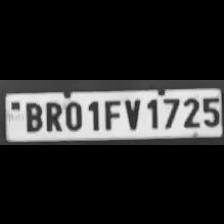0: (62, 99, 84, 131)
1: (84, 97, 103, 130), (142, 96, 160, 128)
2: (179, 95, 199, 129)
5: (199, 92, 221, 128)
7: (158, 95, 180, 129)
B: (22, 99, 42, 131)
F: (102, 96, 120, 130)
R: (42, 98, 62, 132)
V: (120, 96, 142, 130)
